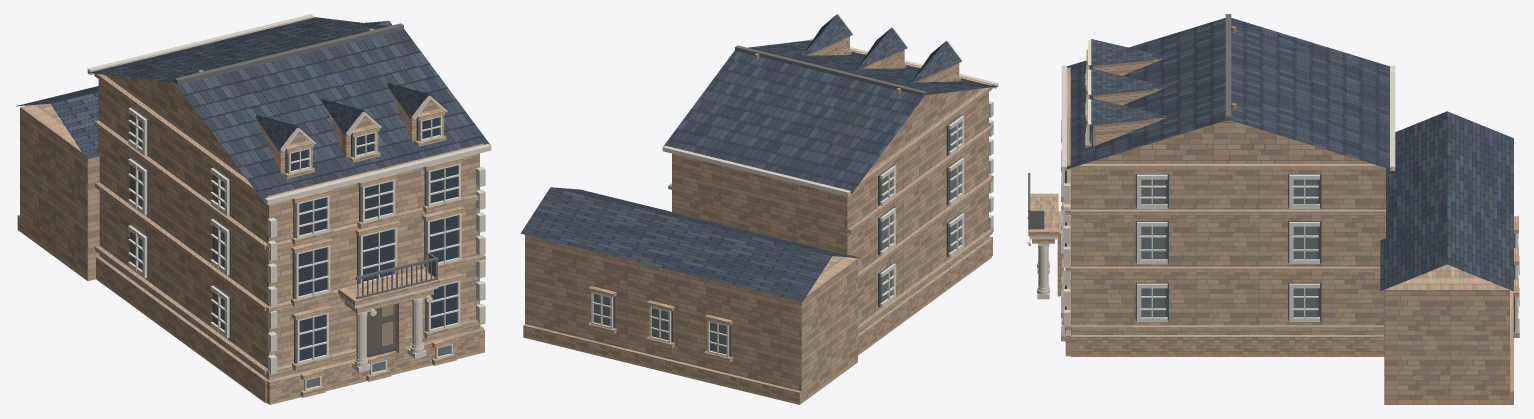
The picture shows the model from 3 angles, left to right: view 1: azimuth 30°, elevation 25°; view 2: azimuth 150°, elevation 25°; view 3: azimuth 270°, elevation 25°; orthographic projection. The views are drawn at different scales.
Parts seen in each view (by area): view 1: Main_three_storey_ashlar_body002, Front_roof_slate_slope002, Rear_lower_service_range002, Rear_roof_slate_slope002, Basement_plinth_left002, Basement_plinth_front002, west_gable_end002, Attic_dormer_3_right_slate_cheek002, Rear_range_roof_front002, Front_roof_eaves002, Main_roof_ridge_capping002, Porch_roof_slab_balcony_floor002 (+23 smaller); view 2: Rear_lower_service_range002, Main_three_storey_ashlar_body002, Rear_roof_slate_slope002, Rear_range_roof_back002, Rear_range_plinth002, Front_roof_slate_slope002, Basement_plinth_left002, Attic_dormer_3_right_slate_cheek002, west_gable_end002, Rear_range_roof_front002, Attic_dormer_3_dormer_face002, Rear_roof_eaves002 (+8 smaller); view 3: Main_three_storey_ashlar_body002, Rear_roof_slate_slope002, Rear_lower_service_range002, Front_roof_slate_slope002, Rear_range_roof_back002, Rear_range_roof_front002, Basement_plinth_right002, east_gable_end002, Attic_dormer_3_right_slate_cheek002, second_floor_band_right002, Attic_dormer_3_dormer_face002, ground_floor_band_right002 (+13 smaller).
Part boxes in pixels (bbox=[...]): Main_three_storey_ashlar_body002: bbox=[98, 79, 479, 379]; Front_roof_slate_slope002: bbox=[176, 29, 490, 201]; Rear_lower_service_range002: bbox=[20, 103, 99, 280]; Rear_roof_slate_slope002: bbox=[88, 17, 388, 83]; Basement_plinth_left002: bbox=[96, 256, 267, 402]; Basement_plinth_front002: bbox=[266, 327, 484, 404]; west_gable_end002: bbox=[104, 74, 245, 177]; Attic_dormer_3_right_slate_cheek002: bbox=[256, 83, 447, 150]; Rear_range_roof_front002: bbox=[51, 21, 392, 159]; Front_roof_eaves002: bbox=[265, 144, 491, 204]; Main_roof_ridge_capping002: bbox=[174, 23, 403, 84]; Porch_roof_slab_balcony_floor002: bbox=[338, 268, 440, 305]; Rear_lower_service_range002: bbox=[525, 234, 857, 402]; Main_three_storey_ashlar_body002: bbox=[672, 92, 988, 333]; Rear_roof_slate_slope002: bbox=[663, 50, 924, 193]; Rear_range_roof_back002: bbox=[520, 187, 832, 302]; Rear_range_plinth002: bbox=[523, 324, 801, 404]; Front_roof_slate_slope002: bbox=[747, 40, 997, 95]; Basement_plinth_left002: bbox=[858, 238, 991, 355]; Attic_dormer_3_right_slate_cheek002: bbox=[802, 14, 961, 82]; west_gable_end002: bbox=[866, 88, 983, 174]; Rear_range_roof_front002: bbox=[552, 187, 861, 258]; Attic_dormer_3_dormer_face002: bbox=[802, 36, 959, 82]; Rear_roof_eaves002: bbox=[662, 145, 850, 196]; Main_three_storey_ashlar_body002: bbox=[1071, 169, 1385, 334]; Rear_roof_slate_slope002: bbox=[1228, 18, 1391, 169]; Rear_lower_service_range002: bbox=[1384, 264, 1509, 404]; Front_roof_slate_slope002: bbox=[1065, 18, 1227, 169]; Rear_range_roof_back002: bbox=[1447, 111, 1513, 291]; Rear_range_roof_front002: bbox=[1380, 111, 1447, 291]; Basement_plinth_right002: bbox=[1071, 335, 1384, 356]; east_gable_end002: bbox=[1085, 120, 1371, 163]; Attic_dormer_3_right_slate_cheek002: bbox=[1091, 39, 1168, 125]; second_floor_band_right002: bbox=[1071, 209, 1385, 215]; Attic_dormer_3_dormer_face002: bbox=[1093, 59, 1165, 146]; ground_floor_band_right002: bbox=[1071, 325, 1384, 330].
Bounding box in the file's own units: 12.14 × 8.97 × 16.5.
Materials: 11 (2 with a texture image).
